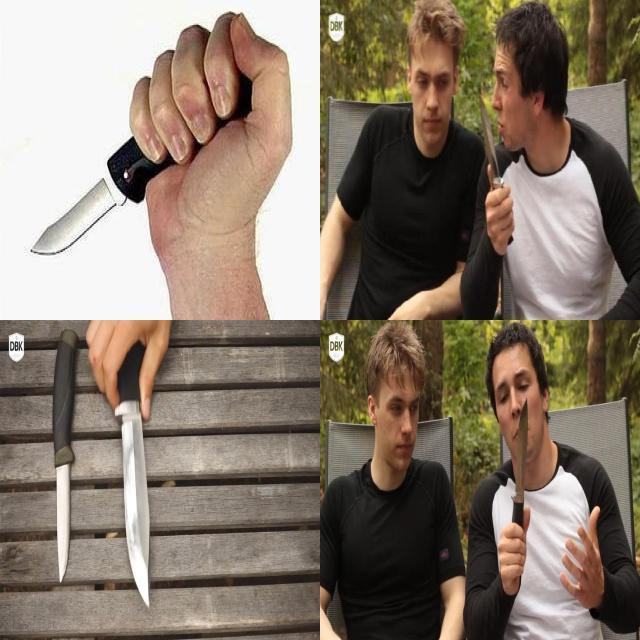-: (21, 69, 207, 264), (100, 366, 160, 615), (498, 387, 532, 572), (474, 81, 516, 223), (44, 424, 76, 592)
